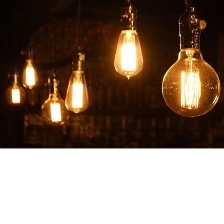light_bulb: (157, 26, 223, 121), (111, 5, 146, 82), (62, 53, 92, 115), (37, 80, 71, 128), (18, 55, 40, 92), (3, 79, 28, 107)
